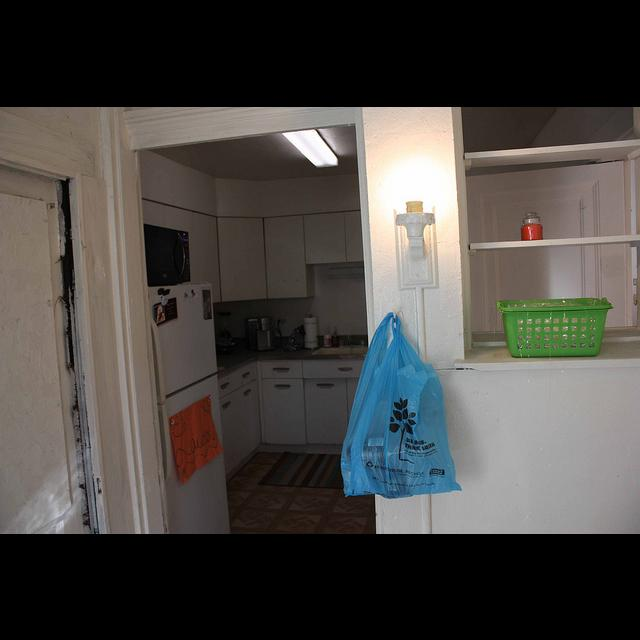Microwave: (144, 222, 191, 286)
Refrigerator: (144, 281, 233, 529)
